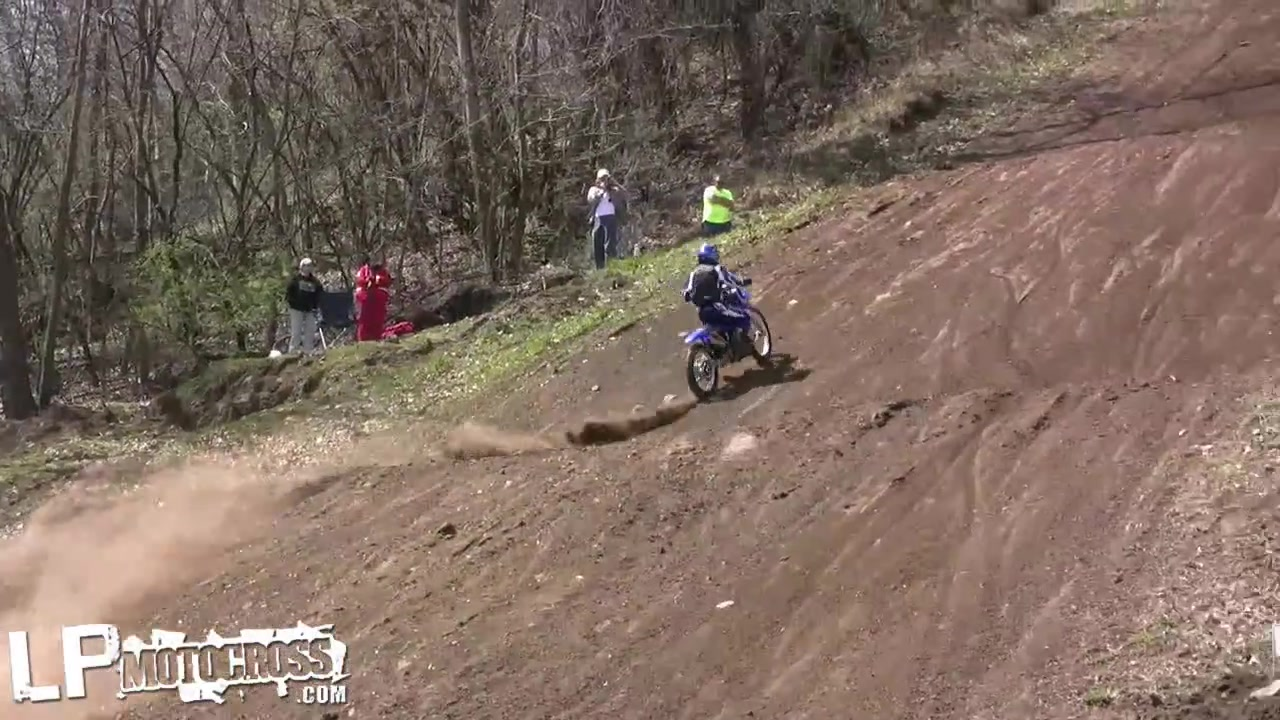motorbike: (687, 273, 775, 399)
